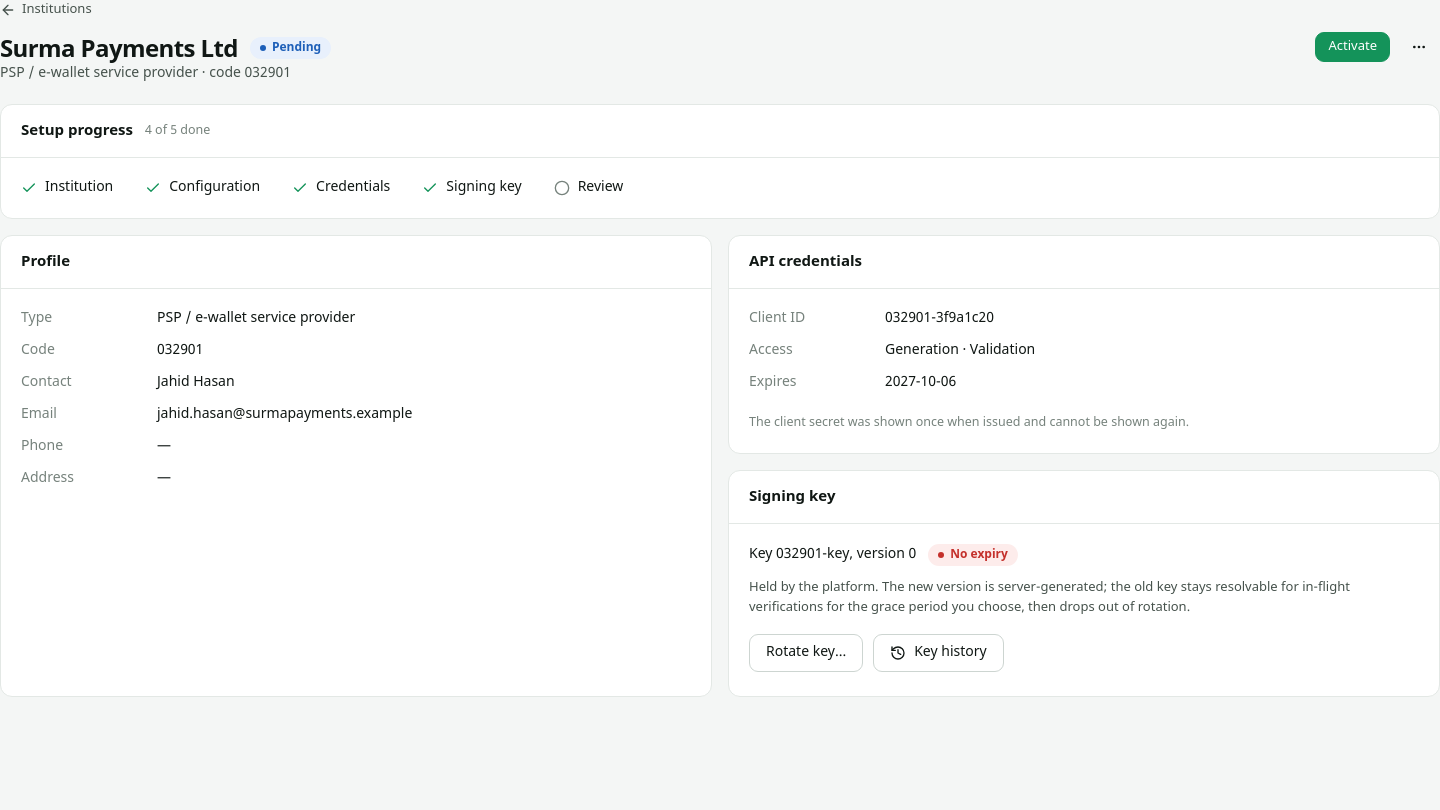
Test case: institution detail › activates a pending institution that is ready, and shows why one is not
What coordinates should you click on to do the following:
click the button "Activate"
I would click on:
 (1353, 47)
Its box is top-left (1316, 32), bottom-right (1390, 62).
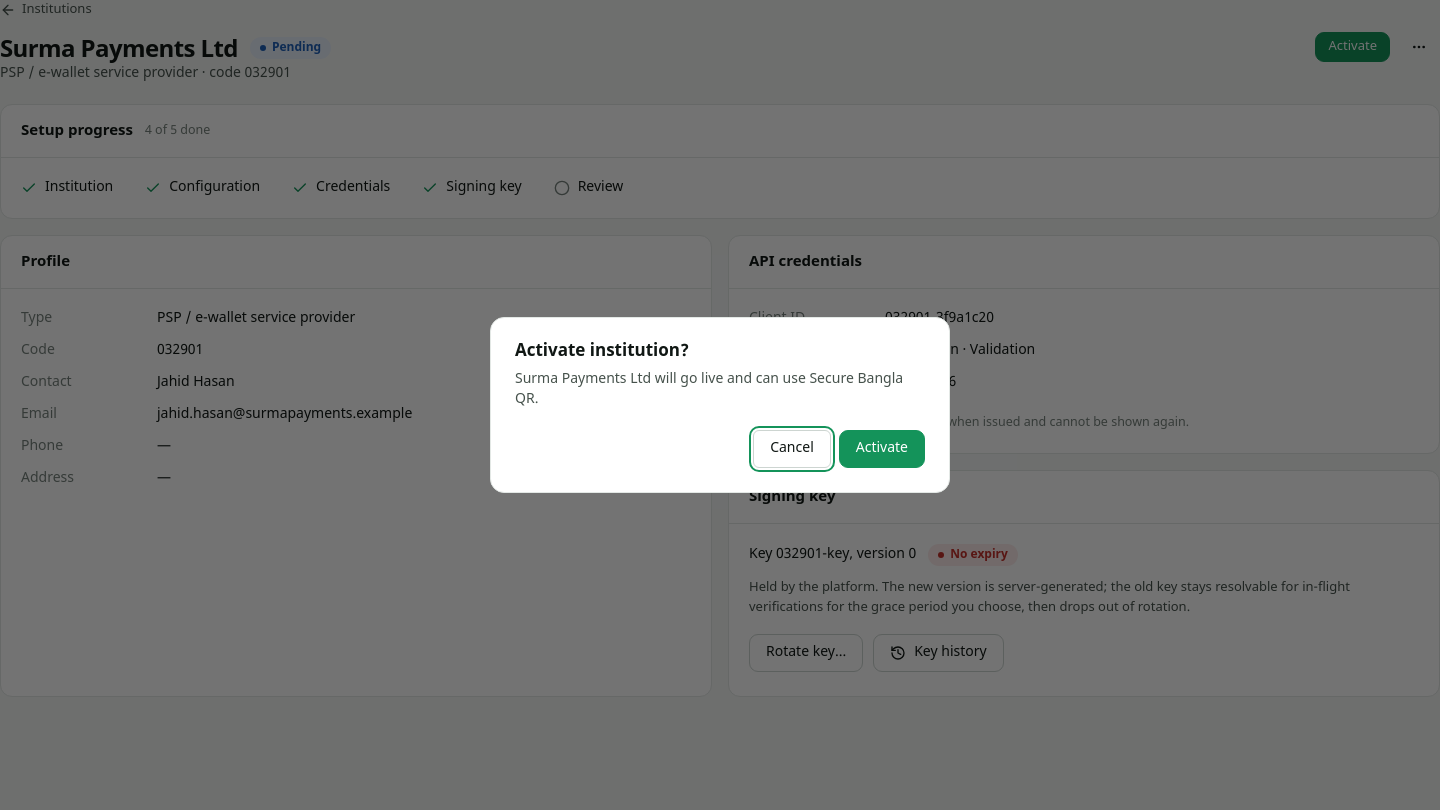
What coordinates should you click on to do the following:
click the button "Activate"
I would click on:
 (882, 449)
Its box is top-left (839, 430), bottom-right (925, 468).
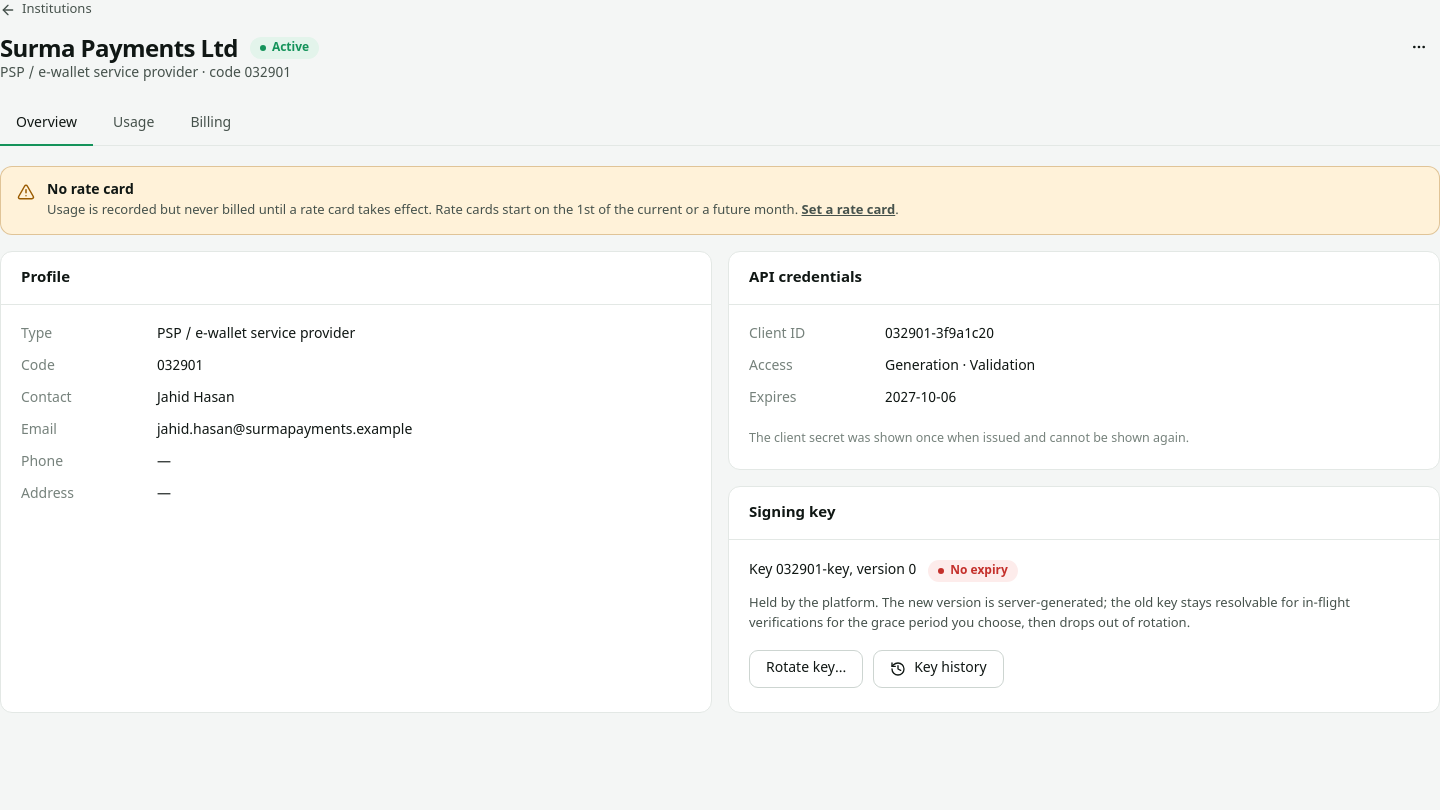
Expected: the text "Active" is shown, top-left (250, 37), bottom-right (319, 59)
